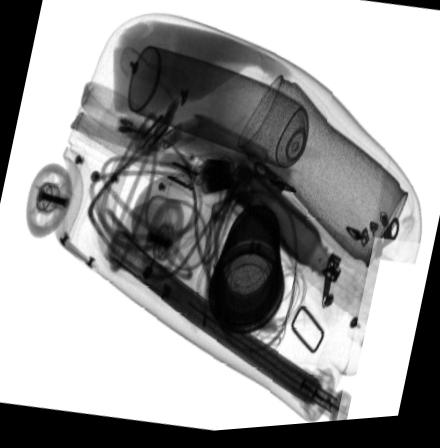Sprayer: (125, 47, 327, 179)
